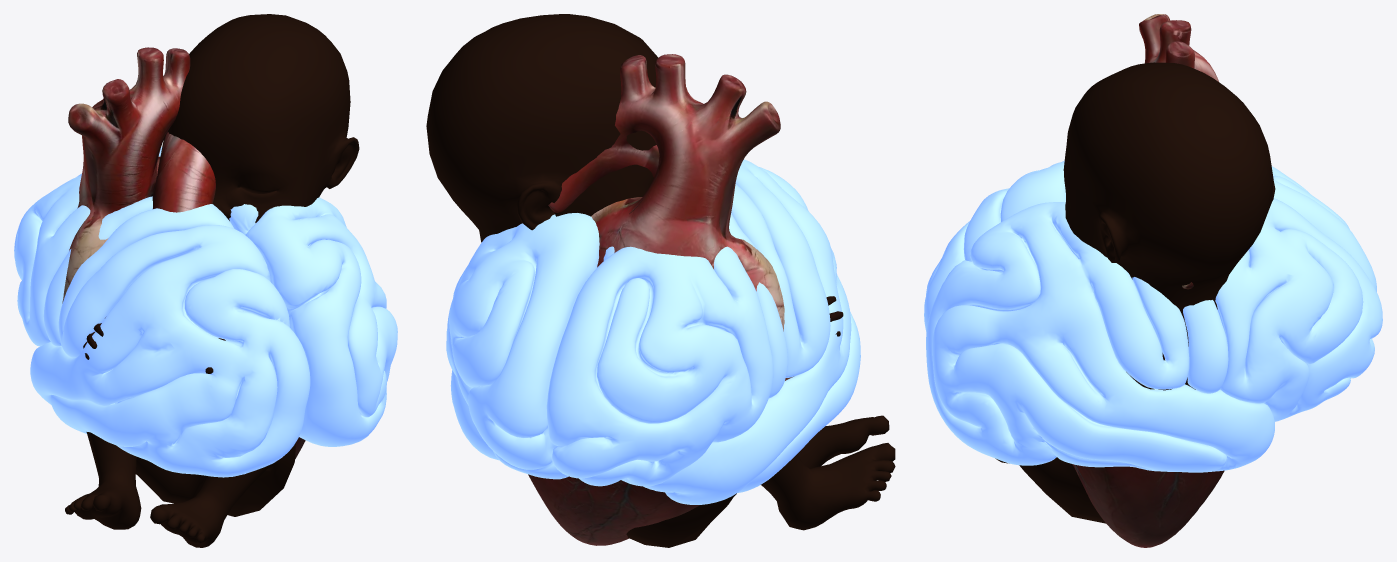
File: HeroModels_24.glb
3 renders of one model, left to right at view 1: azimuth 30°, elevation 25°; view 2: azimuth 150°, elevation 25°; view 3: azimuth 270°, elevation 25°, orthographic. The views are drawn at different scales.
Visible parts, largest first — view 1: 2_Brian, Baby_ocl_SG_0, 1_Stylized Human Heart; view 2: 2_Brian, Baby_ocl_SG_0, 1_Stylized Human Heart; view 3: 2_Brian, Baby_ocl_SG_0, 1_Stylized Human Heart.
Boxes of the visible parts, x1,y1,x2,y2 form: 2_Brian: (14,147,397,477); Baby_ocl_SG_0: (65,14,359,547); 1_Stylized Human Heart: (62,47,305,459); 2_Brian: (446,159,860,504); Baby_ocl_SG_0: (426,14,895,547); 1_Stylized Human Heart: (528,54,793,545); 2_Brian: (924,161,1382,472); Baby_ocl_SG_0: (995,62,1275,523); 1_Stylized Human Heart: (1072,14,1224,547).
Size of the model in its own units: 4.92 by 6.45 by 5.55.
Materials: 3 (1 with a texture image).
